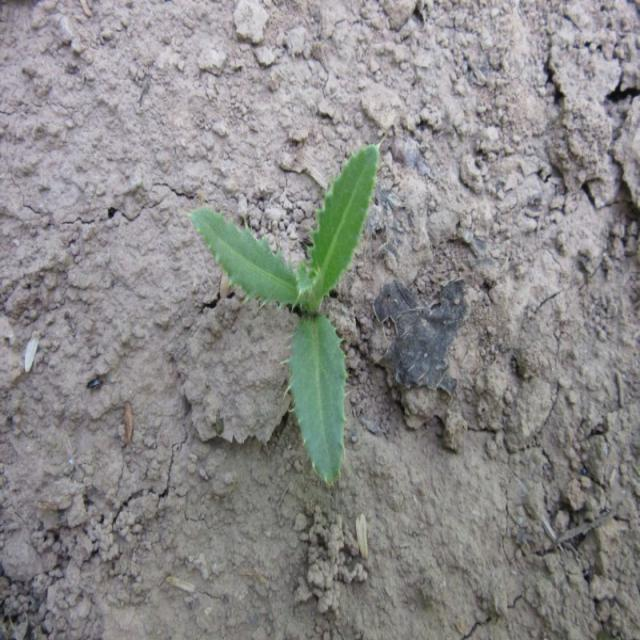cs: (185, 141, 378, 497)
